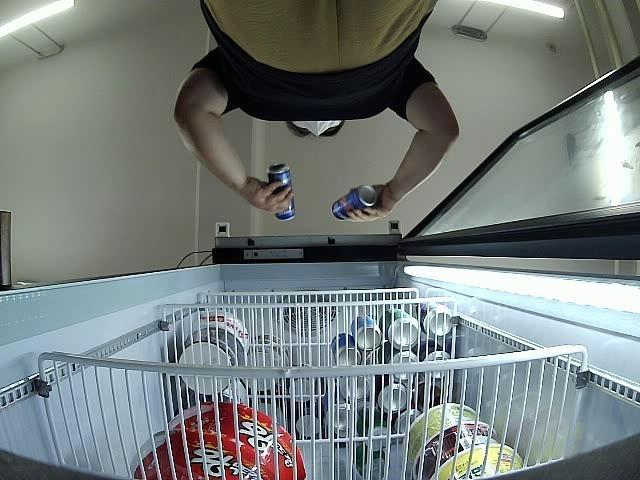16_hot6: (330, 186, 374, 222), (268, 163, 294, 221)
